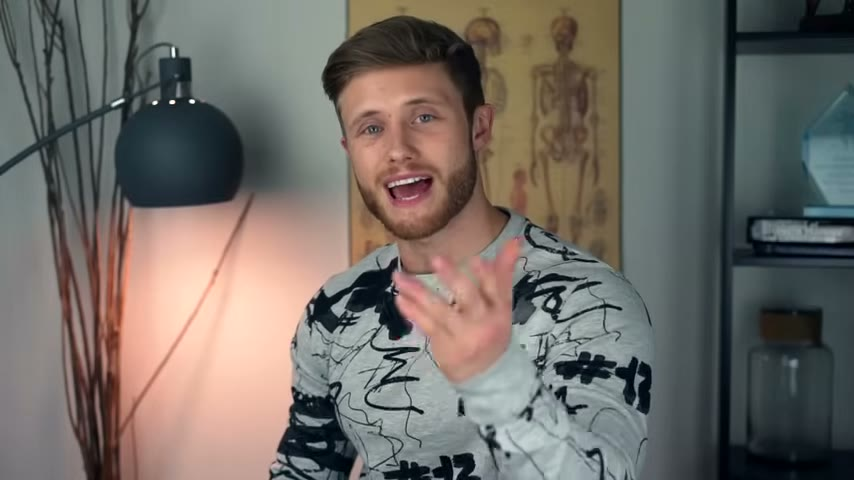barbell_plate_side: (566, 232, 661, 462)
